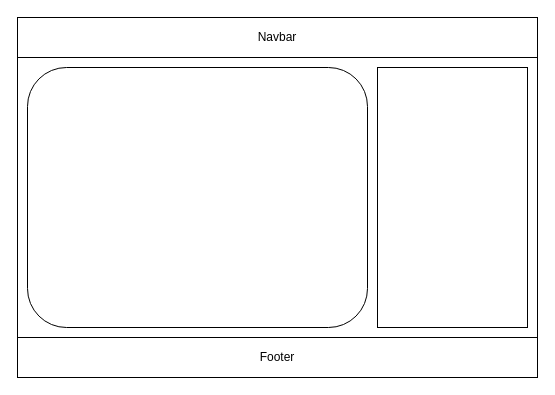
This 555x395 diagram has some shape labels left out. The centre of each missing label's shape, as x and y in pixels:
Information Panel: the point at 452,197
Map: the point at 197,197
